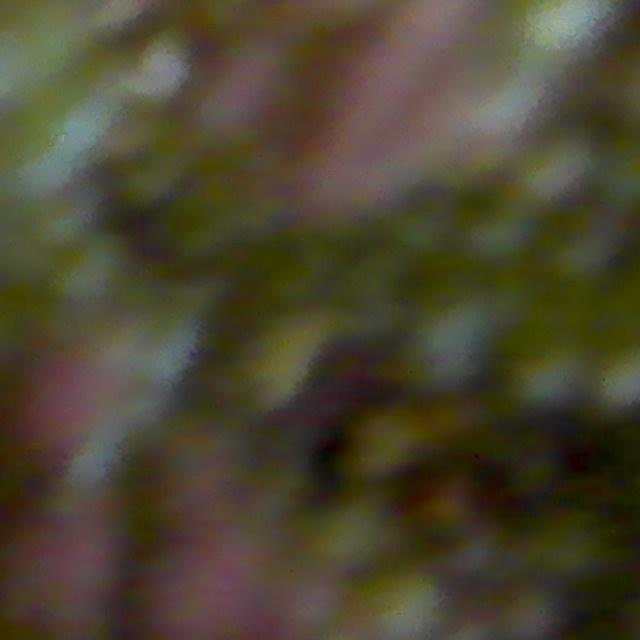SeaGrape: (126, 422, 270, 562), (0, 484, 103, 640), (126, 540, 277, 640), (0, 351, 98, 472), (391, 303, 491, 396), (507, 0, 624, 73), (515, 130, 601, 216), (506, 337, 589, 419), (545, 216, 627, 294), (363, 568, 449, 640), (462, 201, 539, 273), (391, 198, 457, 261), (499, 586, 561, 640), (596, 346, 640, 413)
